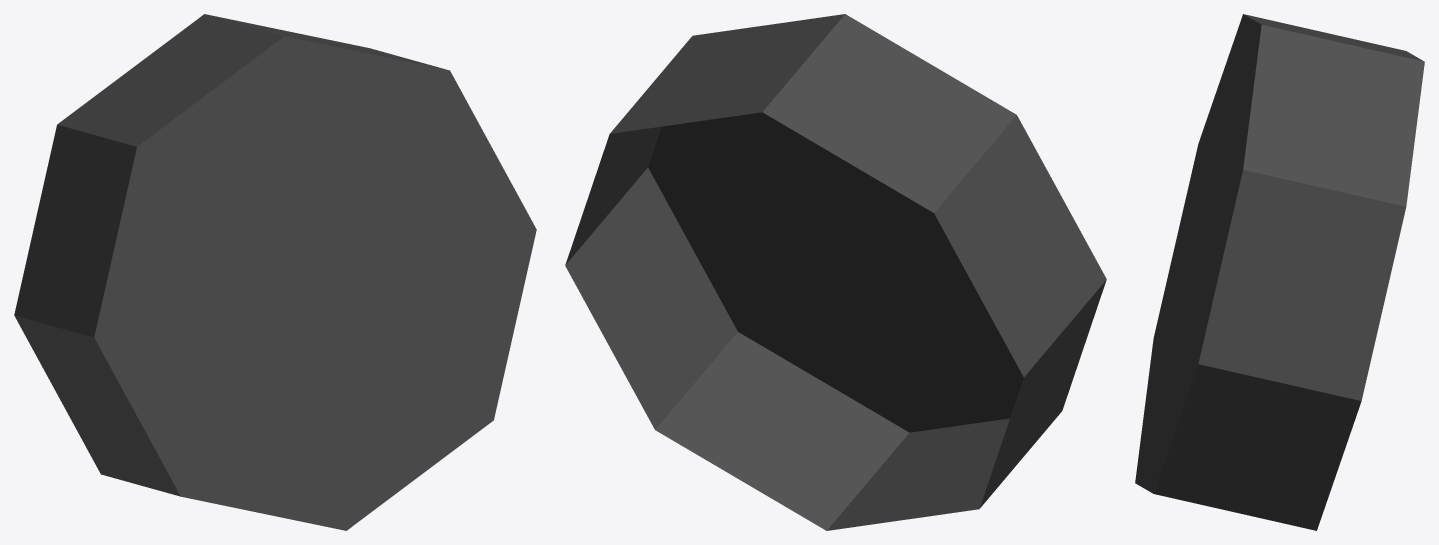
The model's file is Itr_Washingmachine_Controller_01.FBX.
3 renders of one model, left to right at view 1: azimuth 30°, elevation 25°; view 2: azimuth 150°, elevation 25°; view 3: azimuth 270°, elevation 25°, orthographic. The views are drawn at different scales.
Parts seen in each view (by area): view 1: Itr_Washingmachine_Controller_01; view 2: Itr_Washingmachine_Controller_01; view 3: Itr_Washingmachine_Controller_01.
Part boxes in pixels (left/top/right/bottom): Itr_Washingmachine_Controller_01: left=14, top=14, right=536, bottom=530; Itr_Washingmachine_Controller_01: left=565, top=14, right=1106, bottom=530; Itr_Washingmachine_Controller_01: left=1135, top=14, right=1424, bottom=530.
Size of the model in its own units: 3.94 by 4.13 by 2.19.
